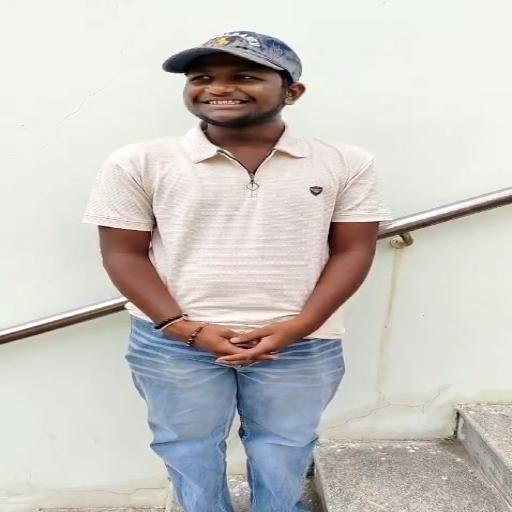employee-detectio-system: (84, 26, 397, 302)
